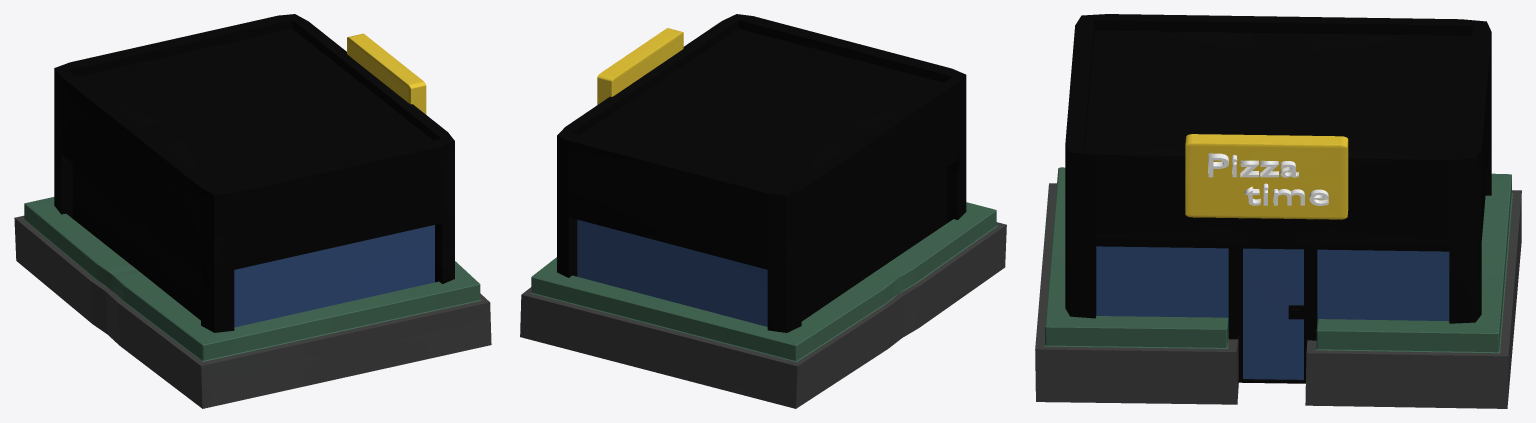
Rendered from piza.fbx.
3 views of the same model, side by side, from view 1: azimuth 30°, elevation 25°; view 2: azimuth 150°, elevation 25°; view 3: azimuth 270°, elevation 25° (orthographic). The views are drawn at different scales.
Parts seen in each view (by area): view 1: Building_PizzaTime; view 2: Building_PizzaTime; view 3: Building_PizzaTime.
Part boxes in pixels (x1,y1,x2,y2): Building_PizzaTime: (14,14,491,408); Building_PizzaTime: (520,14,1006,408); Building_PizzaTime: (1035,14,1521,408).
Size of the model in its own units: 10.81 by 7.51 by 12.85.
Materials: 1 (1 with a texture image).
